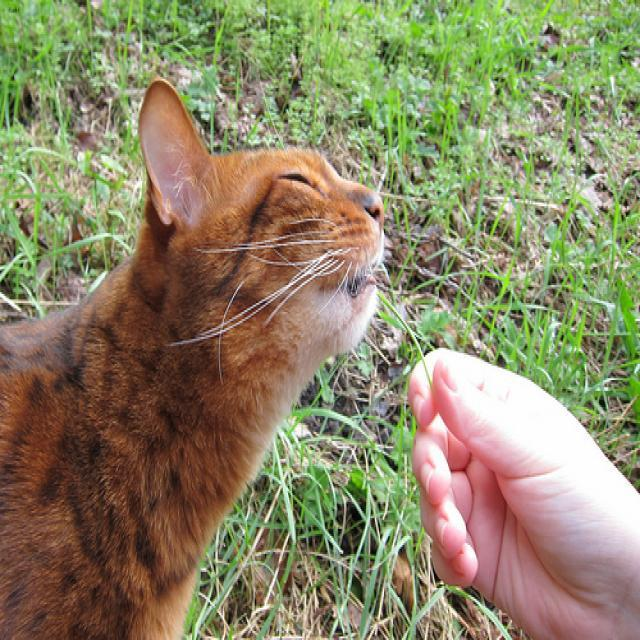Bengal: (131, 67, 405, 421)
